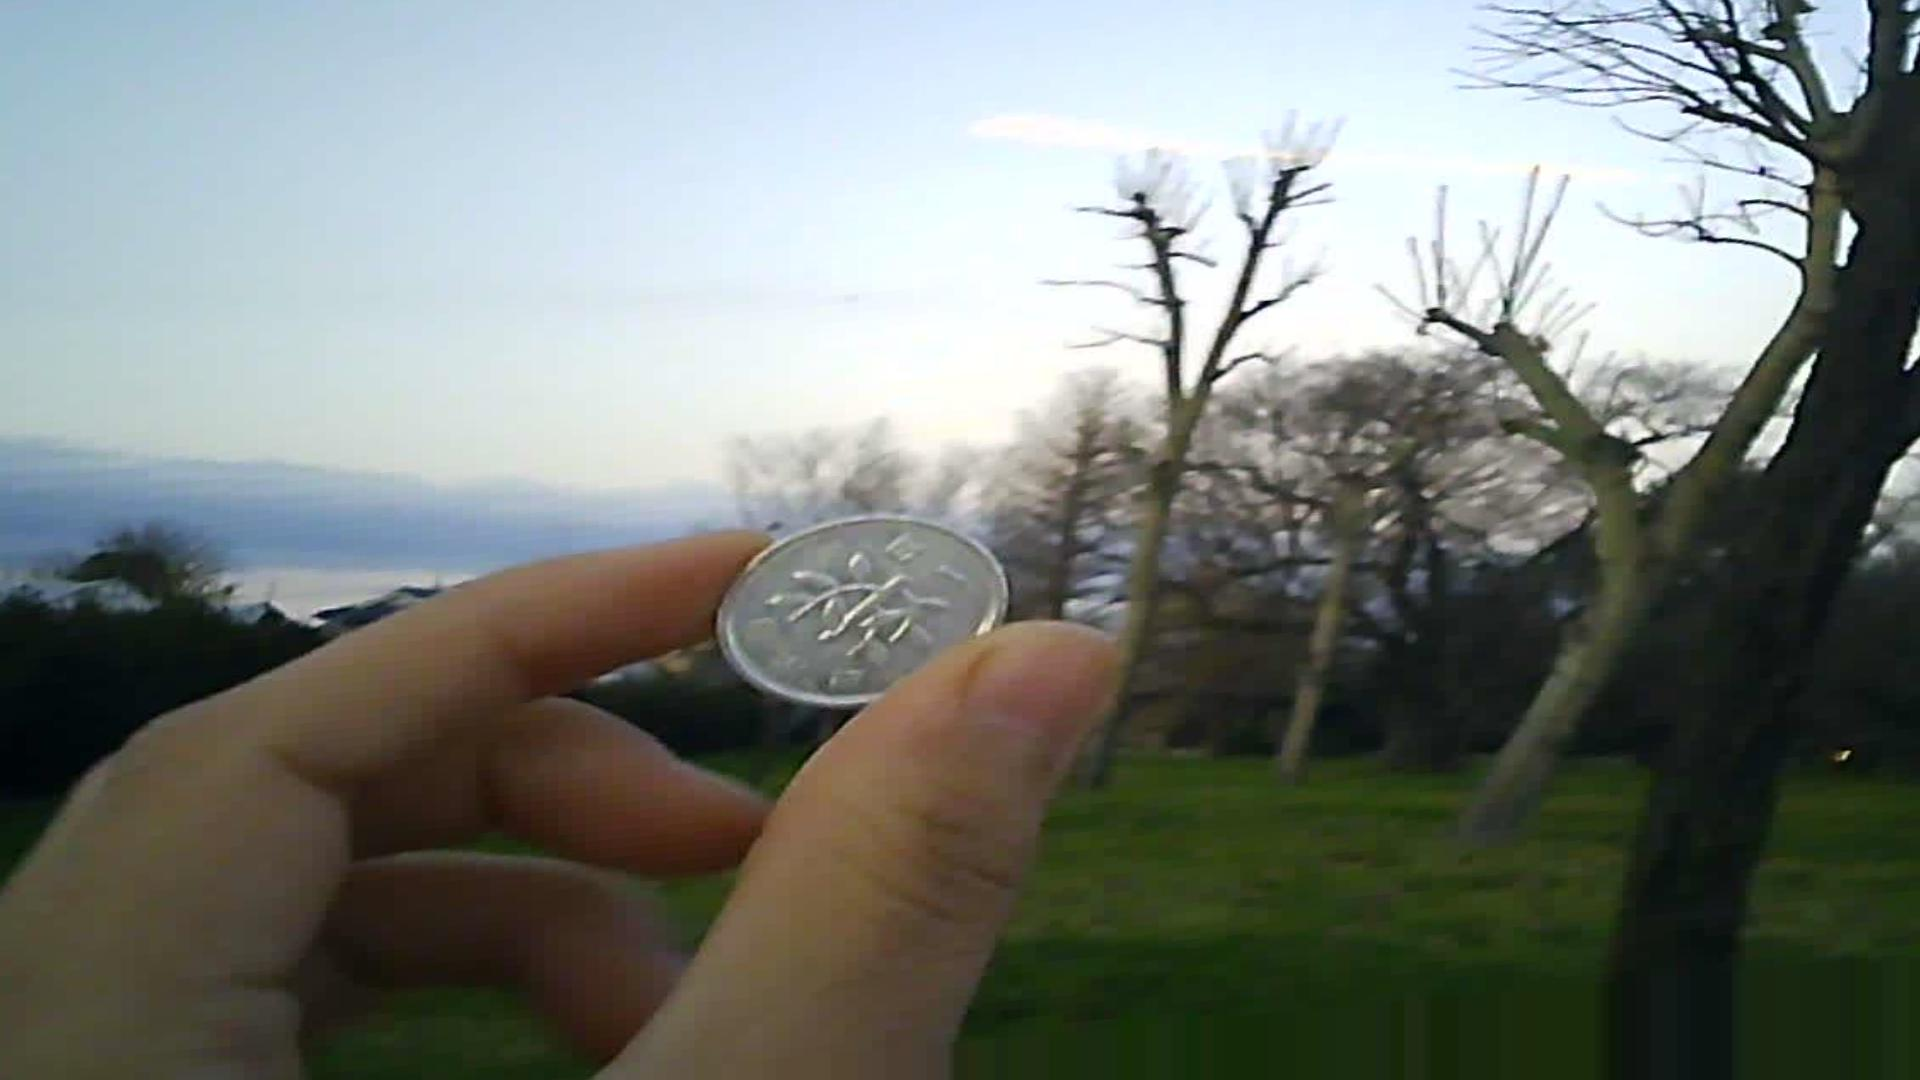1 Yen: (683, 514, 1023, 746)
